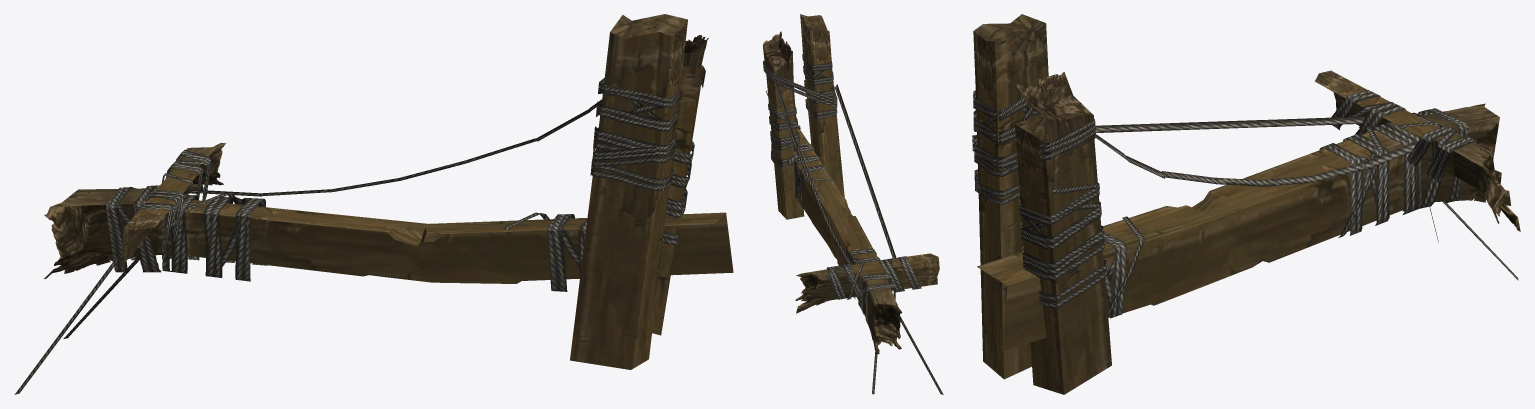
The model's file is 6001_Item_mutou_4.FBX.
3 renders of one model, left to right at view 1: azimuth 30°, elevation 25°; view 2: azimuth 150°, elevation 25°; view 3: azimuth 270°, elevation 25°, orthographic. The views are drawn at different scales.
Parts seen in each view (by area): view 1: 6001_Item_mutou_4; view 2: 6001_Item_mutou_4; view 3: 6001_Item_mutou_4.
Part boxes in pixels (bbox=[...]): 6001_Item_mutou_4: bbox=[14, 14, 733, 394]; 6001_Item_mutou_4: bbox=[763, 14, 943, 394]; 6001_Item_mutou_4: bbox=[972, 14, 1520, 394].
Size of the model in its own units: 812 by 630 by 706.
